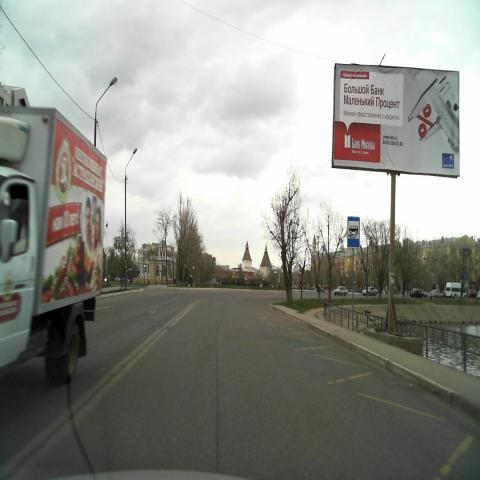5_16: (346, 216, 361, 249)
